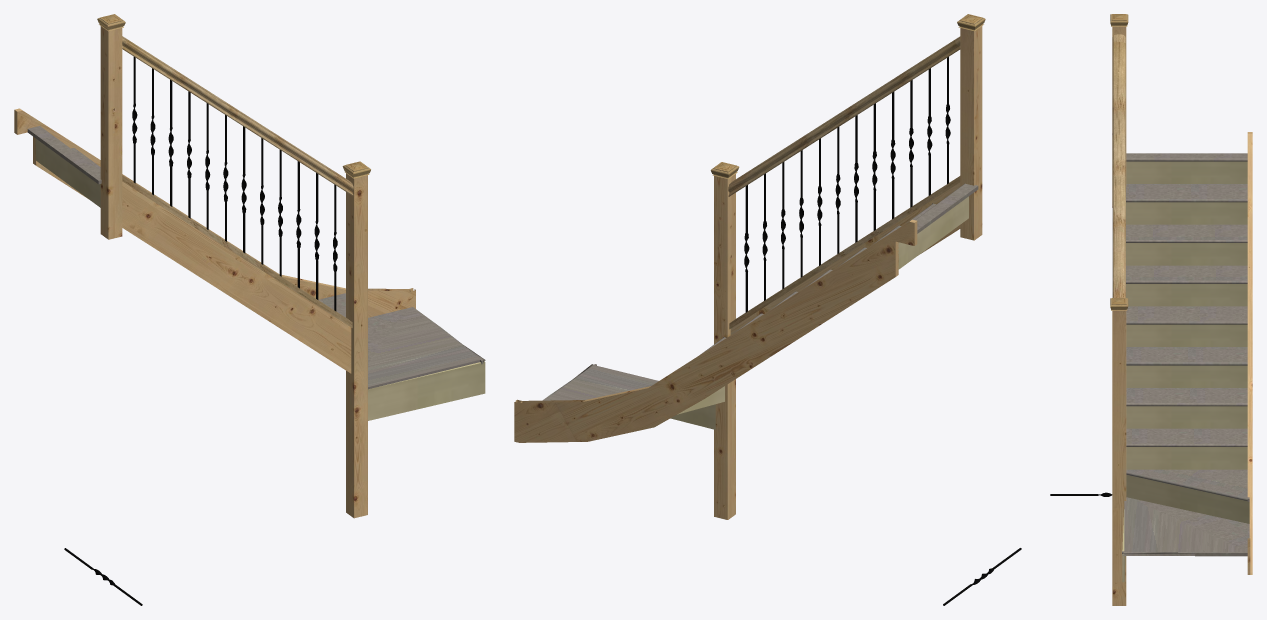
Rendered from Edited Stairs.glb.
3 renders of one model, left to right at view 1: azimuth 30°, elevation 25°; view 2: azimuth 150°, elevation 25°; view 3: azimuth 270°, elevation 25°, orthographic. The views are drawn at different scales.
Parts seen in each view (by area): view 1: _x0023_STRINGtk-whitewood.jpg1111, _x0023_POSTtk-whitewood.jpg1111, _x0023_TREADNew_x0020_MDF.jpg1111, _x0023_RISERBirch.jpg1111, _x0023_HANDRAILbig-oaktex.jpg1111, _x0023_BOTTOMRAILbig-oaktex.jpg1111, _x0023_POSTbig-oaktex.jpg1111; view 2: _x0023_STRINGtk-whitewood.jpg1111, _x0023_POSTtk-whitewood.jpg1111, _x0023_TREADNew_x0020_MDF.jpg1111, _x0023_HANDRAILbig-oaktex.jpg1111, _x0023_RISERBirch.jpg1111, _x0023_BOTTOMRAILbig-oaktex.jpg1111, _x0023_POSTbig-oaktex.jpg1111; view 3: _x0023_TREADNew_x0020_MDF.jpg1111, _x0023_RISERBirch.jpg1111, _x0023_POSTtk-whitewood.jpg1111, _x0023_HANDRAILbig-oaktex.jpg1111, _x0023_STRINGtk-whitewood.jpg1111, _x0023_POSTbig-oaktex.jpg1111.
Part boxes in pixels (x1,y1,x2,y2): _x0023_STRINGtk-whitewood.jpg1111: (14,108,415,373); _x0023_POSTtk-whitewood.jpg1111: (100,26,367,518); _x0023_TREADNew_x0020_MDF.jpg1111: (27,126,485,389); _x0023_RISERBirch.jpg1111: (35,138,485,420); _x0023_HANDRAILbig-oaktex.jpg1111: (122,36,353,195); _x0023_BOTTOMRAILbig-oaktex.jpg1111: (122,175,352,327); _x0023_POSTbig-oaktex.jpg1111: (97,14,370,178); _x0023_STRINGtk-whitewood.jpg1111: (514,182,960,442); _x0023_POSTtk-whitewood.jpg1111: (714,26,982,519); _x0023_TREADNew_x0020_MDF.jpg1111: (542,183,978,400); _x0023_HANDRAILbig-oaktex.jpg1111: (728,36,960,196); _x0023_RISERBirch.jpg1111: (670,196,968,429); _x0023_BOTTOMRAILbig-oaktex.jpg1111: (729,176,960,329); _x0023_POSTbig-oaktex.jpg1111: (710,14,985,179); _x0023_TREADNew_x0020_MDF.jpg1111: (1122,153,1249,556); _x0023_RISERBirch.jpg1111: (1122,161,1249,582); _x0023_POSTtk-whitewood.jpg1111: (1112,26,1126,605); _x0023_HANDRAILbig-oaktex.jpg1111: (1112,34,1125,297); _x0023_STRINGtk-whitewood.jpg1111: (1247,132,1252,574); _x0023_POSTbig-oaktex.jpg1111: (1110,14,1128,310).
Bounding box in the file's own units: 2.56 × 3.42 × 1.3.
Materials: 8 (7 with a texture image).
